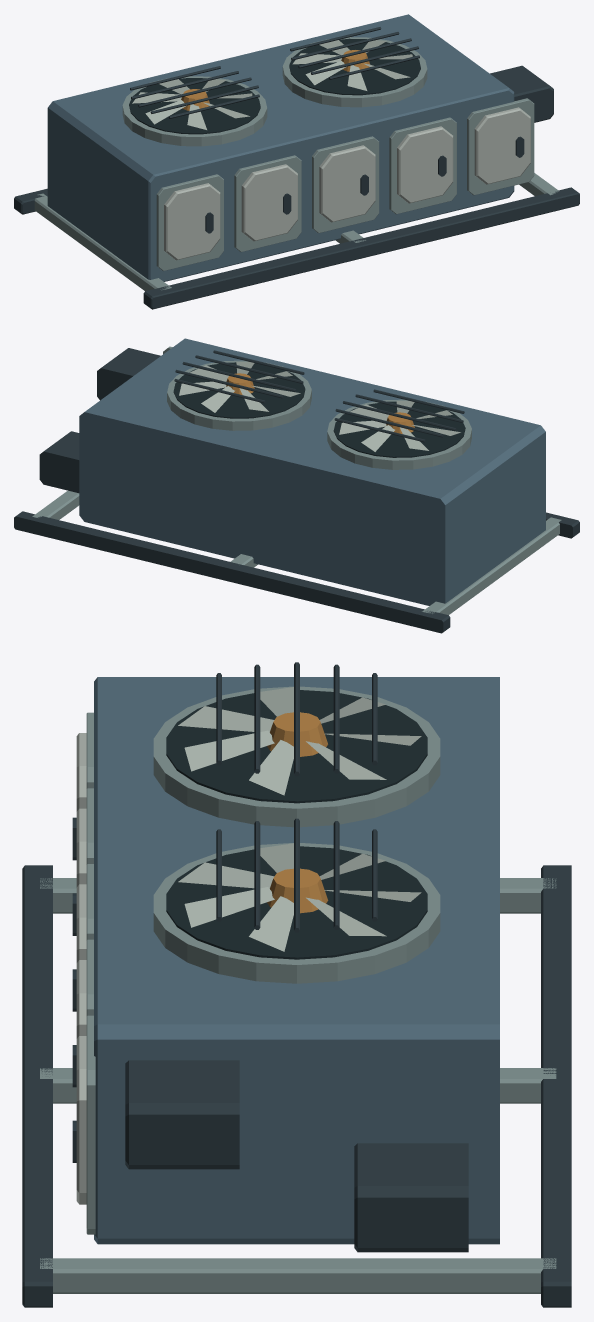
File: UT-04_air_handler.glb
3 renders of one model, top to bottom at view 1: azimuth 30°, elevation 25°; view 2: azimuth 150°, elevation 25°; view 3: azimuth 270°, elevation 25°, orthographic. The views are drawn at different scales.
Visible parts, largest first — view 1: UT-04_air_handler; view 2: UT-04_air_handler; view 3: UT-04_air_handler.
Part boxes in pixels (<box>): UT-04_air_handler: <box>14,14,579,309</box>; UT-04_air_handler: <box>14,338,579,633</box>; UT-04_air_handler: <box>22,662,571,1307</box>.
Bounding box in the file's own units: 13 × 4.09 × 7.2.
